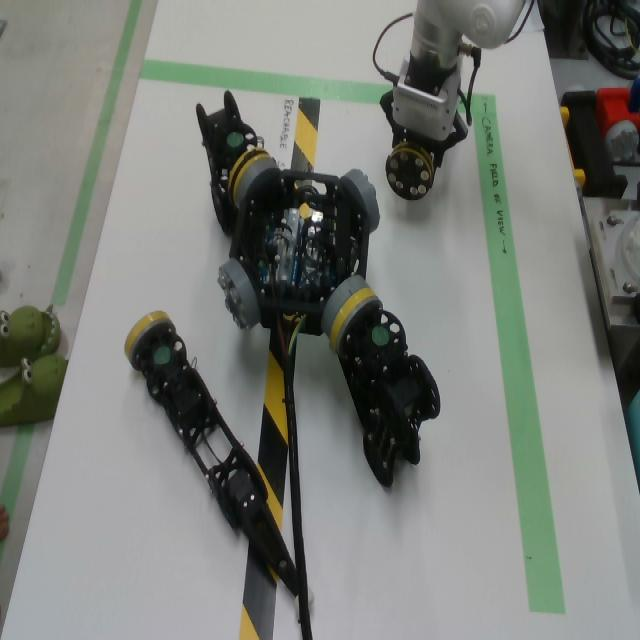body: (229, 171, 370, 337)
body_connector: (217, 259, 261, 331), (320, 275, 368, 339), (340, 169, 380, 233), (235, 157, 279, 208)
gripper: (380, 73, 469, 168)
leg: (124, 311, 298, 616), (329, 287, 441, 488), (195, 91, 269, 239), (385, 127, 438, 201)
leg_connector: (329, 289, 383, 352), (385, 141, 434, 201), (124, 311, 172, 365), (228, 145, 269, 201)
leg_marker: (155, 345, 171, 365), (372, 327, 389, 345), (227, 132, 243, 147)
